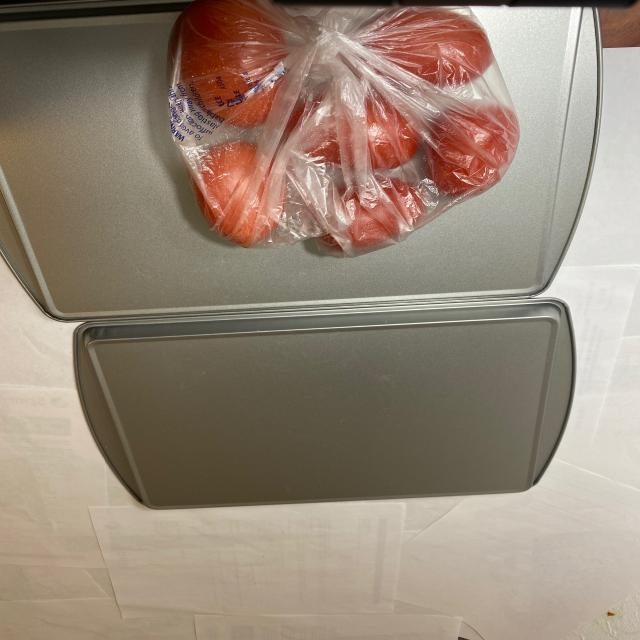tomato: (170, 3, 525, 248)
